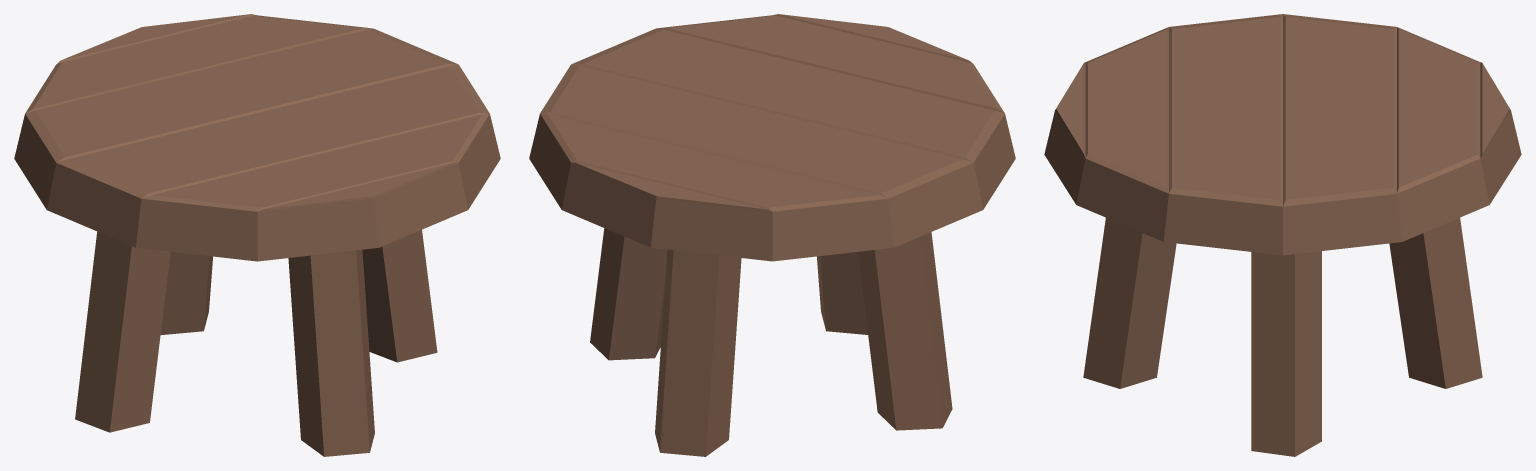
File: Table_2.fbx
3 views of the same model, side by side, from view 1: azimuth 30°, elevation 25°; view 2: azimuth 150°, elevation 25°; view 3: azimuth 270°, elevation 25° (orthographic).
Parts seen in each view (by area): view 1: pCylinder174; view 2: pCylinder174; view 3: pCylinder174.
Boxes of the visible parts, bbox=[...] form: pCylinder174: bbox=[14, 14, 500, 456]; pCylinder174: bbox=[529, 14, 1015, 456]; pCylinder174: bbox=[1044, 14, 1521, 456].
Bounding box in the file's own units: 147 × 89.46 × 147.
